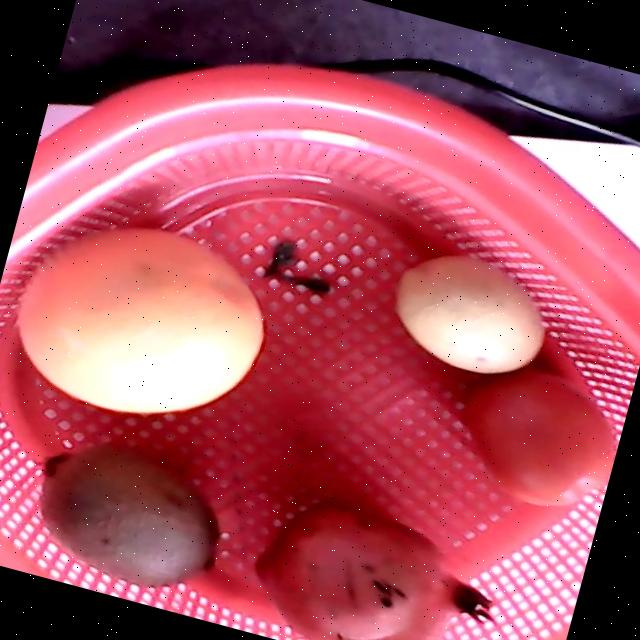kiwi: (41, 441, 219, 589)
lemon: (396, 257, 543, 371)
orange: (12, 225, 263, 411)
pomegranate: (255, 507, 490, 640)
tomato: (462, 368, 616, 503)
